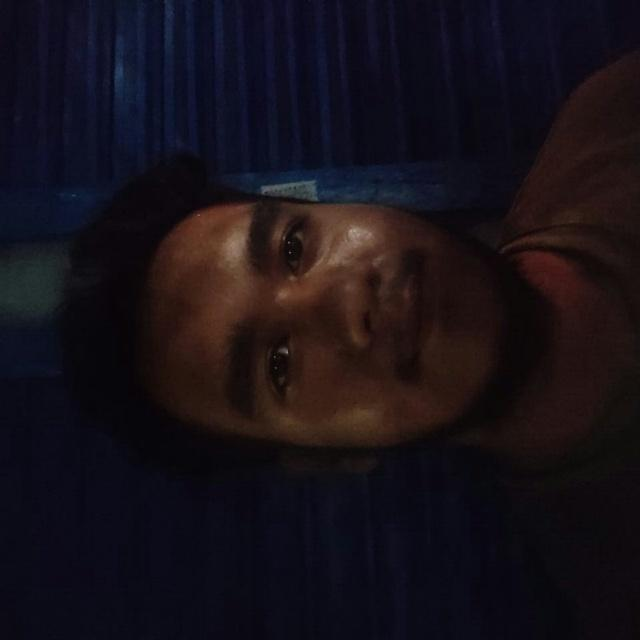Natural: (149, 83, 517, 501)
